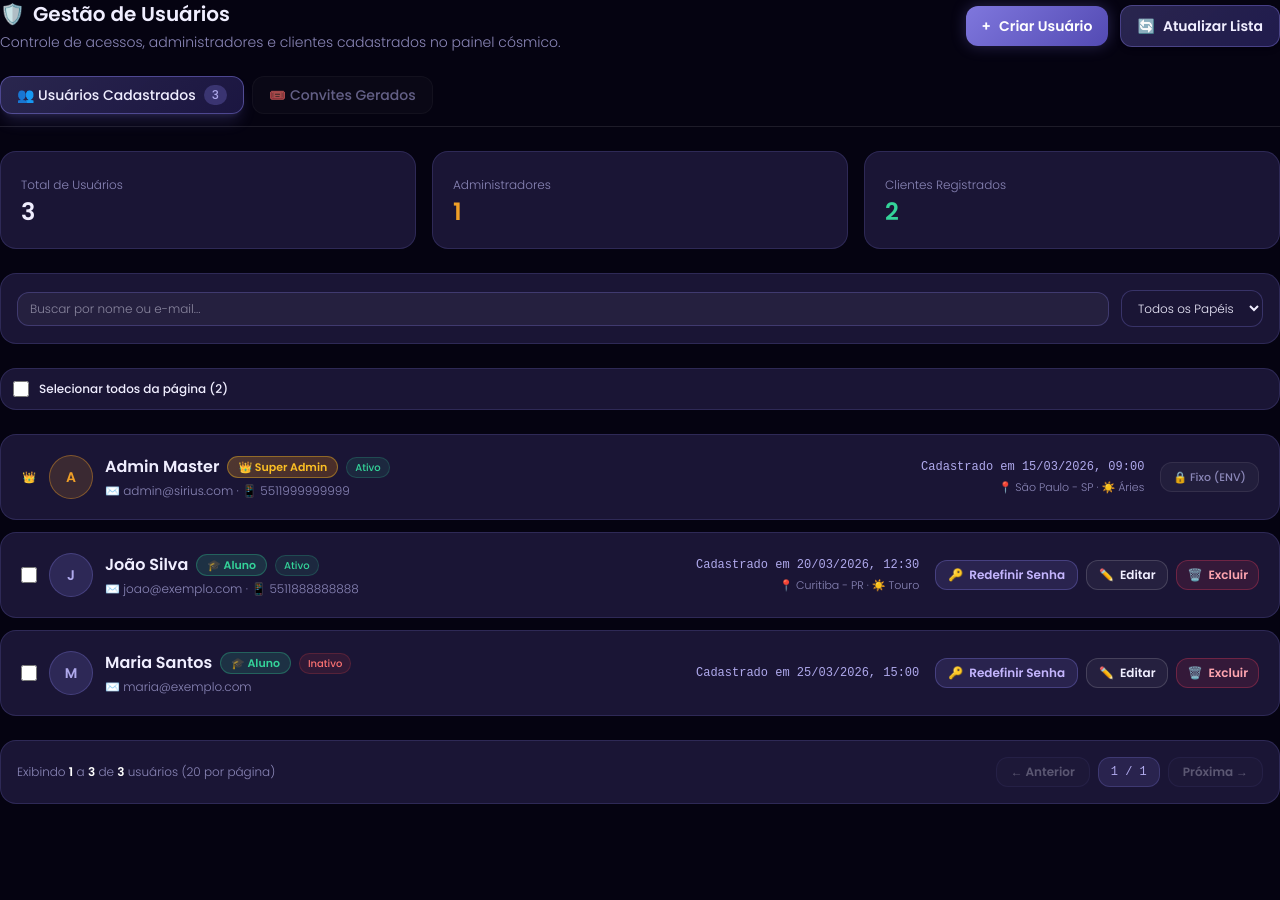
Test: GestaoUsuarios Component › abre o modal de edição ao clicar no botão Editar de um usuário comum
What coordinates should you click on to do the following:
click the button with test id "edit-user-btn-2"
I would click on:
 (1127, 575)
Its box is [1086,560,1168,590].
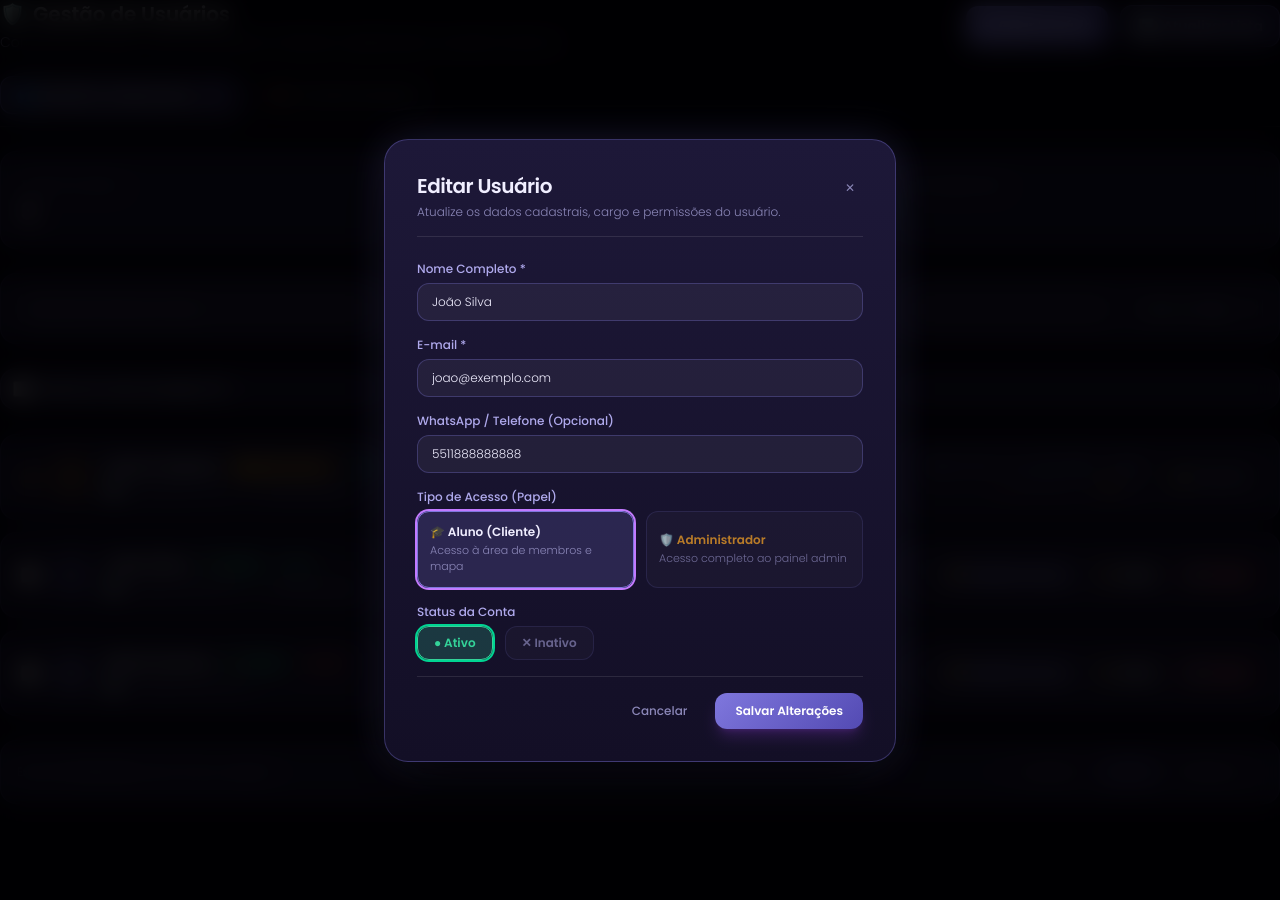
Expected: the element with test id "editar-usuario-modal-backdrop" is shown
Expected: the heading "Editar Usuário" is shown, [417,172,552,200]
